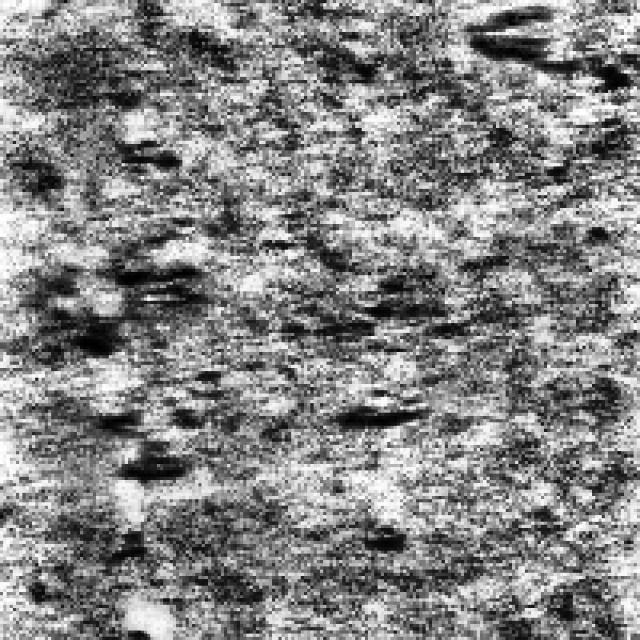Crazing: (61, 122, 237, 490), (454, 0, 595, 70)
